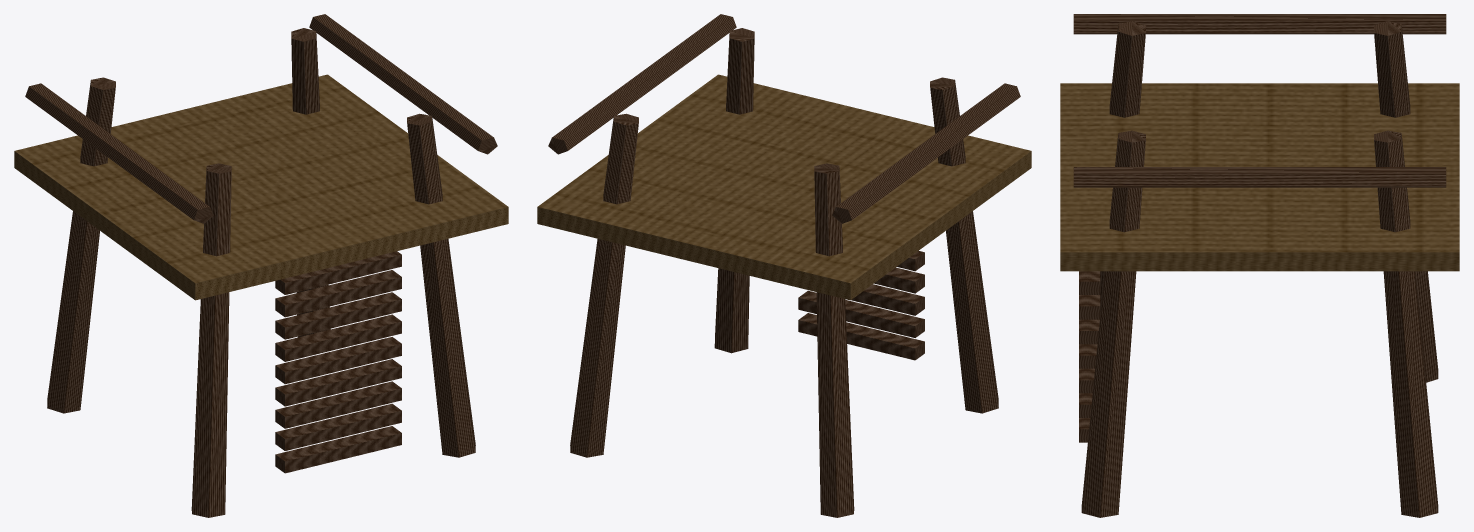
The model's file is watchtower_01.fbx.
3 renders of one model, left to right at view 1: azimuth 30°, elevation 25°; view 2: azimuth 150°, elevation 25°; view 3: azimuth 270°, elevation 25°, orthographic. The views are drawn at different scales.
Visible parts, largest first — view 1: watchtower_01_LOD0; view 2: watchtower_01_LOD0; view 3: watchtower_01_LOD0.
Part boxes in pixels (<box>): watchtower_01_LOD0: <box>14,14,508,517</box>; watchtower_01_LOD0: <box>537,14,1031,517</box>; watchtower_01_LOD0: <box>1060,14,1459,517</box>.
Size of what is drawn, in the model's own units: 1 by 1 by 1.
